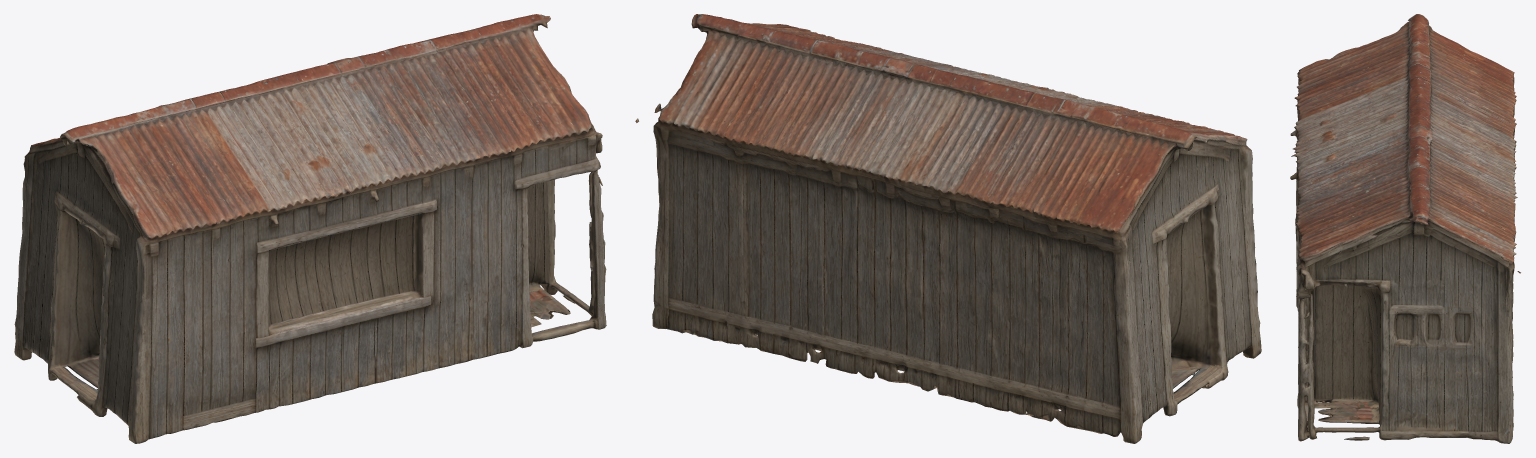
File: SmallHouse.fbx
The picture shows the model from 3 angles, left to right: view 1: azimuth 30°, elevation 25°; view 2: azimuth 150°, elevation 25°; view 3: azimuth 270°, elevation 25°; orthographic projection. The views are drawn at different scales.
Parts seen in each view (by area): view 1: texture_mapping; view 2: texture_mapping; view 3: texture_mapping.
Boxes of the visible parts, x1,y1,x2,y2 form: texture_mapping: (14,14,606,443); texture_mapping: (635,14,1261,443); texture_mapping: (1290,14,1520,443).
Bounding box in the file's own units: 0.9856 × 0.4644 × 0.5182.
Materials: 1 (1 with a texture image).
